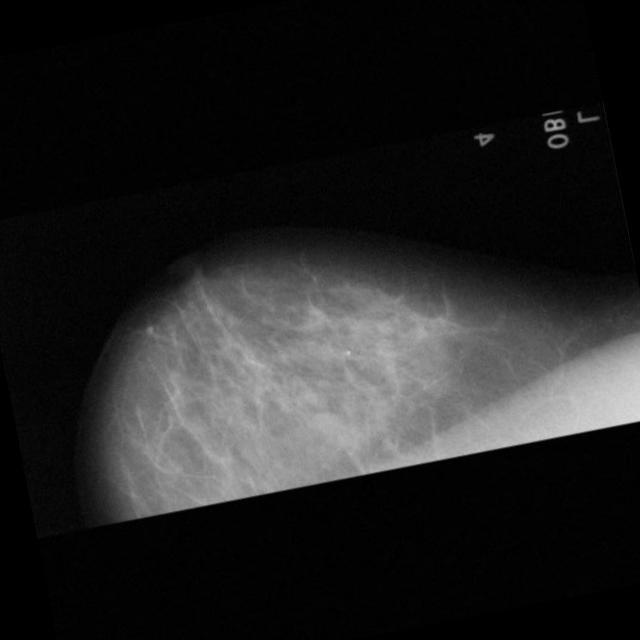CIRC: (314, 412, 344, 441)
